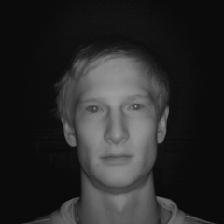normal: (52, 45, 175, 195)
